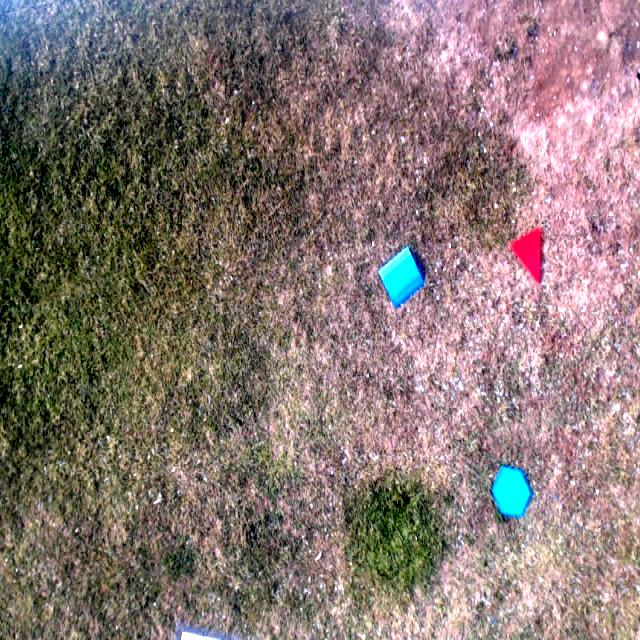blue_hexagon: (493, 463, 531, 520)
blue_square: (380, 248, 422, 310)
red_triangle: (509, 226, 541, 283)
